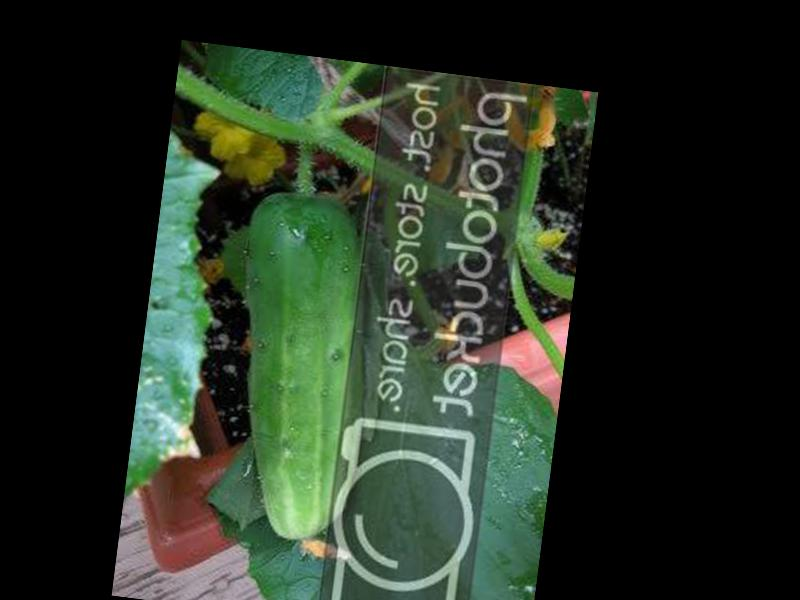Cucumber: (209, 190, 390, 549)
